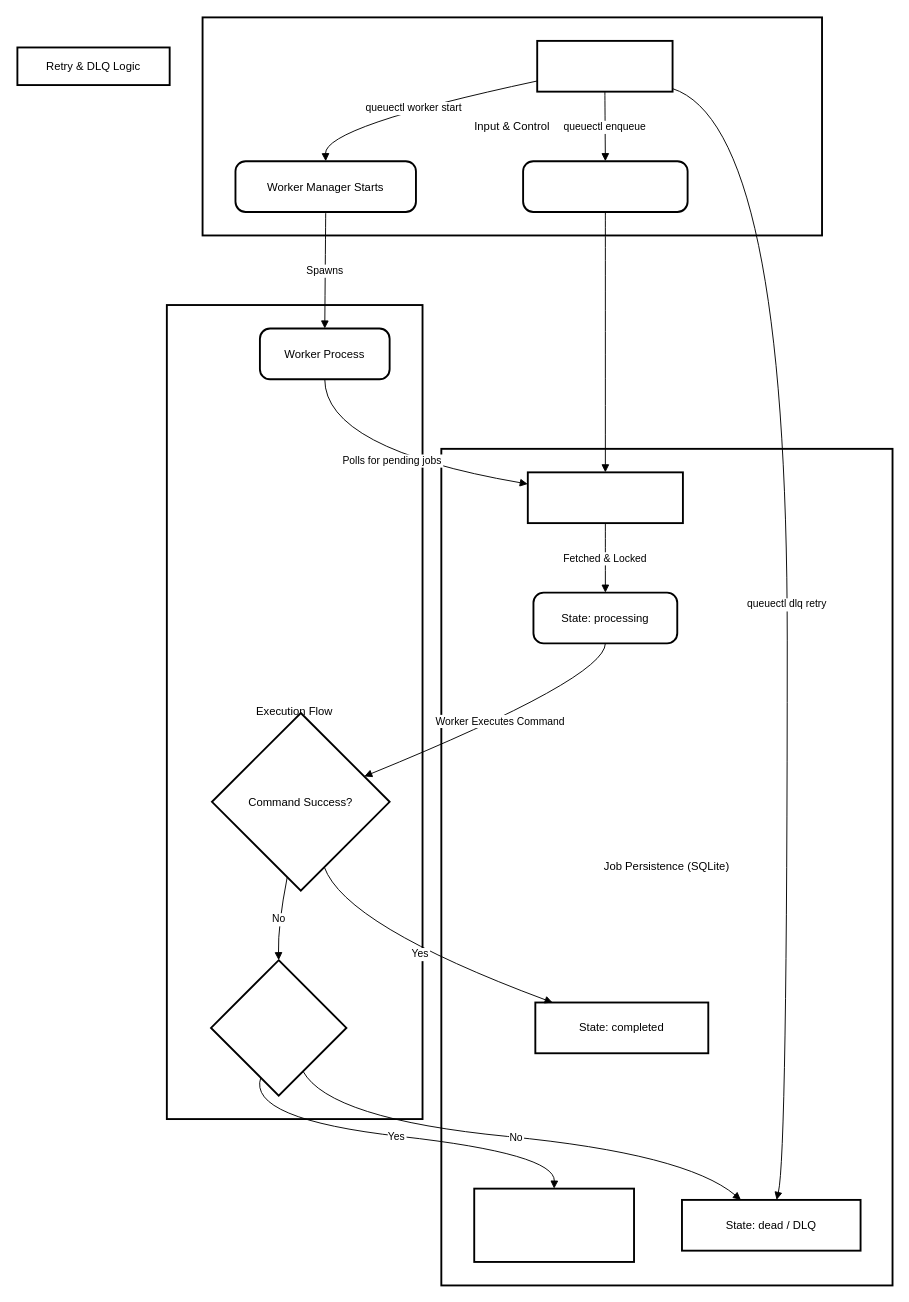
This 909x1302 diagram has some shape labels left out. Here are the shapes that lost their labels. From the top down, the centre of each, then its label:
At point (604, 65): "User via CLI".
At point (605, 186): "Job Added to Queue".
At point (604, 497): "State: pending".
At point (278, 1027): "Retries Left?".
At point (553, 1224): "State: pending + backoff delay".
